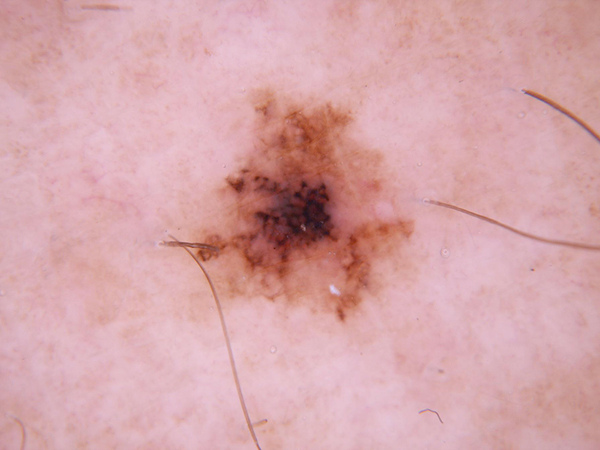Detected Lesion: (179, 79, 415, 332)
